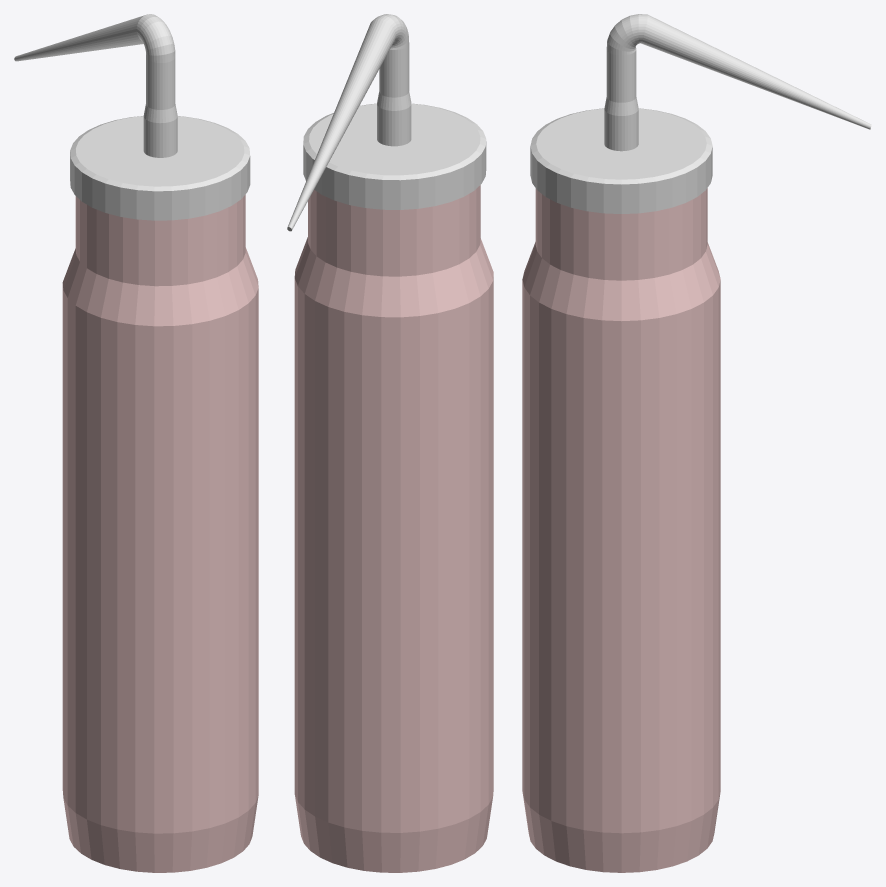
The model's file is MedicineCabinet1.fbx.
3 renders of one model, left to right at view 1: azimuth 30°, elevation 25°; view 2: azimuth 150°, elevation 25°; view 3: azimuth 270°, elevation 25°, orthographic.
Parts seen in each view (by area): view 1: 円柱.012, 円柱.014, 円柱.013, 円柱.015; view 2: 円柱.012, 円柱.014, 円柱.013, 円柱.015; view 3: 円柱.012, 円柱.014, 円柱.013, 円柱.015.
Boxes of the visible parts, box(x1,y1,x2,y2) form: 円柱.012: box(62, 247, 258, 872); 円柱.014: box(70, 116, 250, 220); 円柱.013: box(75, 195, 245, 286); 円柱.015: box(14, 14, 177, 157); 円柱.012: box(294, 237, 493, 872); 円柱.014: box(303, 103, 486, 209); 円柱.013: box(308, 185, 480, 276); 円柱.015: box(287, 14, 411, 231); 円柱.012: box(522, 242, 720, 872); 円柱.014: box(530, 108, 712, 213); 円柱.013: box(535, 188, 707, 280); 円柱.015: box(604, 14, 871, 151).
Size of the model in its own units: 3.8 by 17.29 by 6.68.
